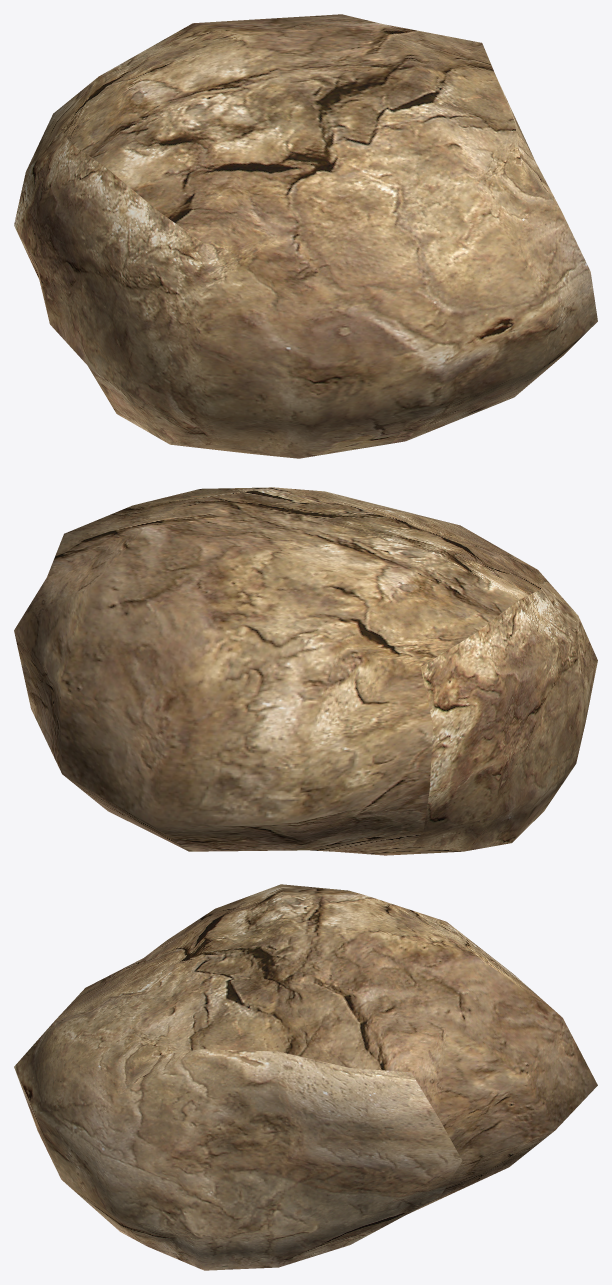
The model's file is smoothRock3.obj.
3 views of the same model, one above another, from view 1: azimuth 30°, elevation 25°; view 2: azimuth 150°, elevation 25°; view 3: azimuth 270°, elevation 25° (orthographic). The views are drawn at different scales.
Visible parts, largest first — view 1: pCube1; view 2: pCube1; view 3: pCube1.
Part boxes in pixels (left/top/right/bottom): pCube1: left=14, top=14, right=597, bottom=458; pCube1: left=14, top=487, right=597, bottom=855; pCube1: left=14, top=884, right=597, bottom=1270.
Bounding box in the file's own units: 11.69 × 7.89 × 15.08.
1 material, 1 textured.
